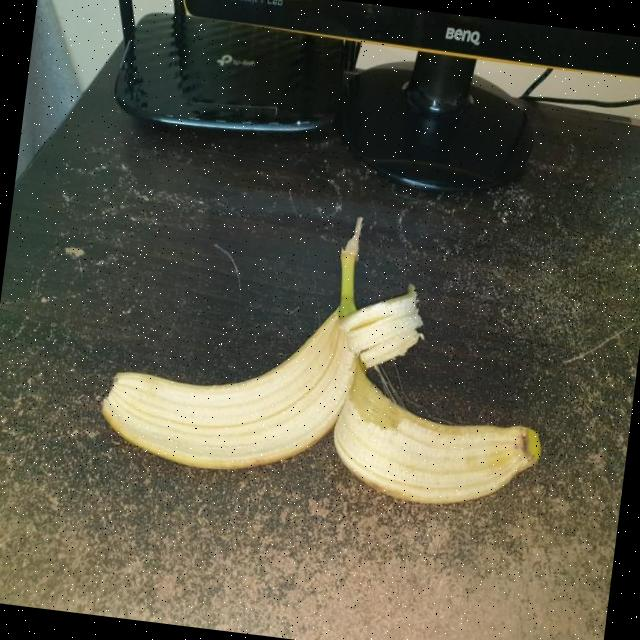banana-peel: (92, 186, 436, 494), (324, 350, 550, 518)
